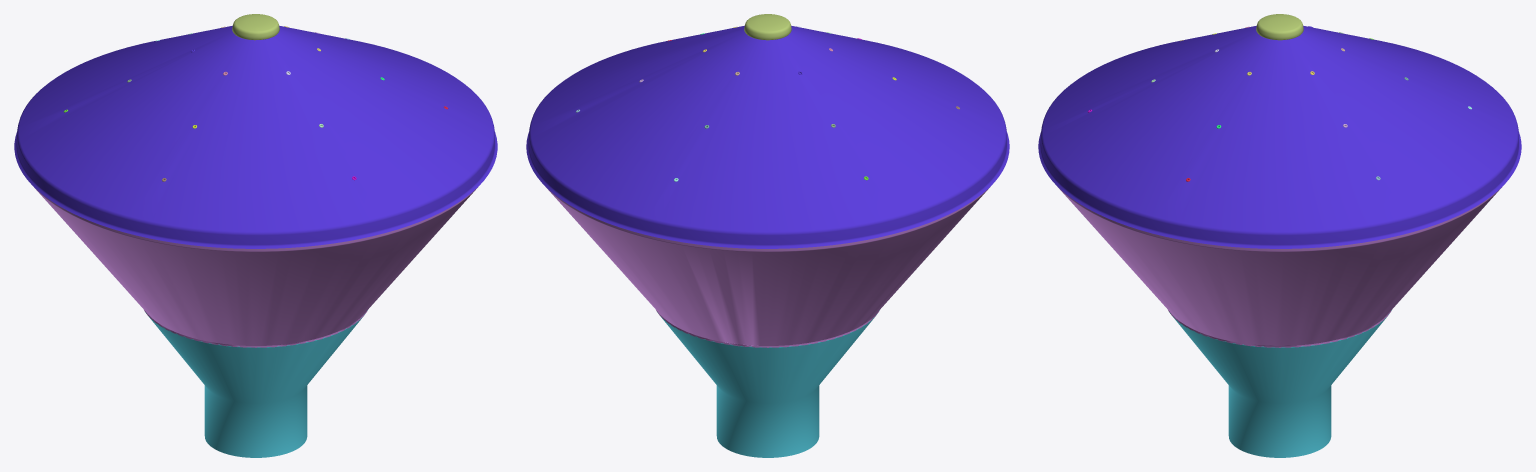
The picture shows the model from 3 angles, left to right: view 1: azimuth 30°, elevation 25°; view 2: azimuth 150°, elevation 25°; view 3: azimuth 270°, elevation 25°; orthographic projection.
Visible parts, largest first — view 1: split_parent_0, split_parent_20, split_parent_24, split_parent_21; view 2: split_parent_0, split_parent_20, split_parent_24, split_parent_21; view 3: split_parent_0, split_parent_20, split_parent_24, split_parent_21.
Part boxes in pixels (x1=…): split_parent_0: x1=14, y1=25, x2=497, y2=248; split_parent_20: x1=34, y1=187, x2=477, y2=347; split_parent_24: x1=145, y1=310, x2=367, y2=457; split_parent_21: x1=232, y1=14, x2=279, y2=40; split_parent_0: x1=526, y1=25, x2=1009, y2=248; split_parent_20: x1=546, y1=187, x2=989, y2=347; split_parent_24: x1=657, y1=310, x2=879, y2=457; split_parent_21: x1=744, y1=14, x2=791, y2=40; split_parent_0: x1=1038, y1=25, x2=1521, y2=248; split_parent_20: x1=1058, y1=187, x2=1501, y2=347; split_parent_24: x1=1169, y1=310, x2=1391, y2=457; split_parent_21: x1=1256, y1=14, x2=1303, y2=40.
Size of the model in its own units: 1 by 0.9474 by 1.
